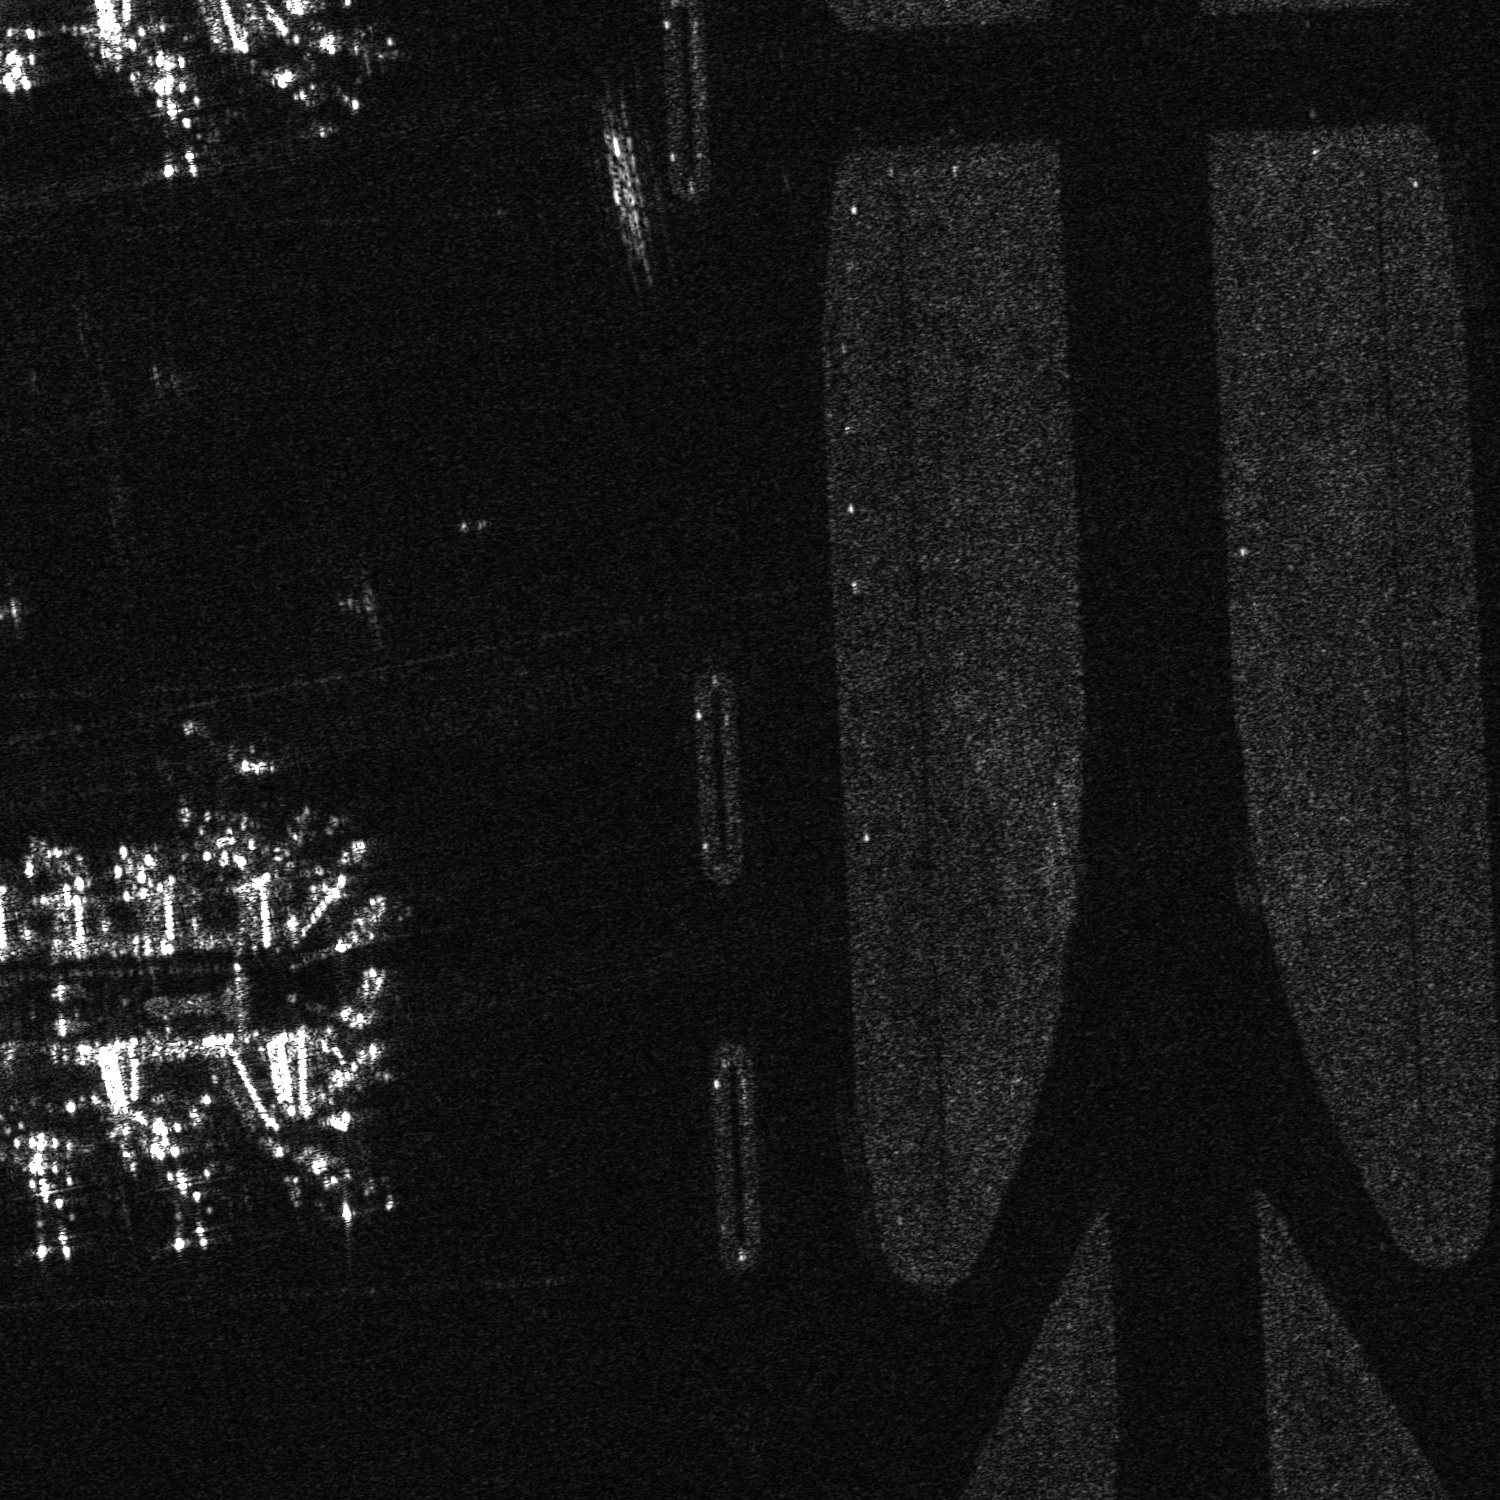A220: (174, 745, 288, 852)
A320/321: (110, 70, 234, 185), (305, 14, 405, 85)
Boeing737: (282, 1141, 409, 1229), (266, 60, 372, 137)
Boeing787: (1, 1146, 88, 1266)
other: (133, 1137, 221, 1269)
